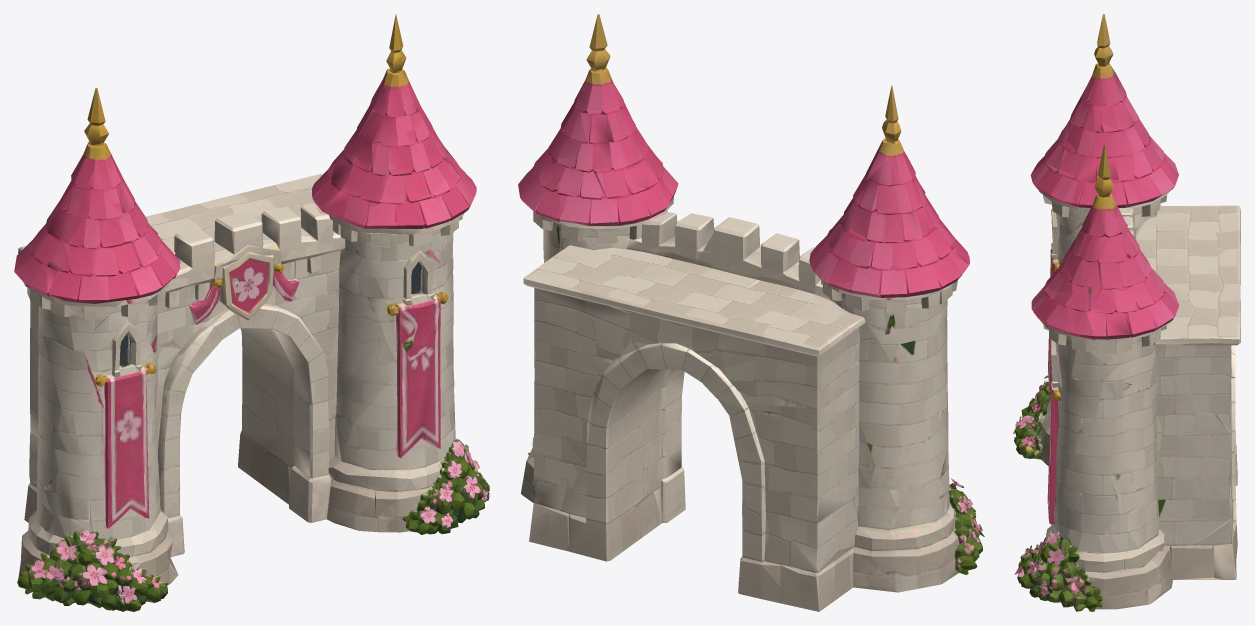
File: gate_town.glb
3 renders of one model, left to right at view 1: azimuth 30°, elevation 25°; view 2: azimuth 150°, elevation 25°; view 3: azimuth 270°, elevation 25°, orthographic. The views are drawn at different scales.
Size of the model in its own units: 1.88 by 1.9 by 0.9019.
Materials: 1 (1 with a texture image).
